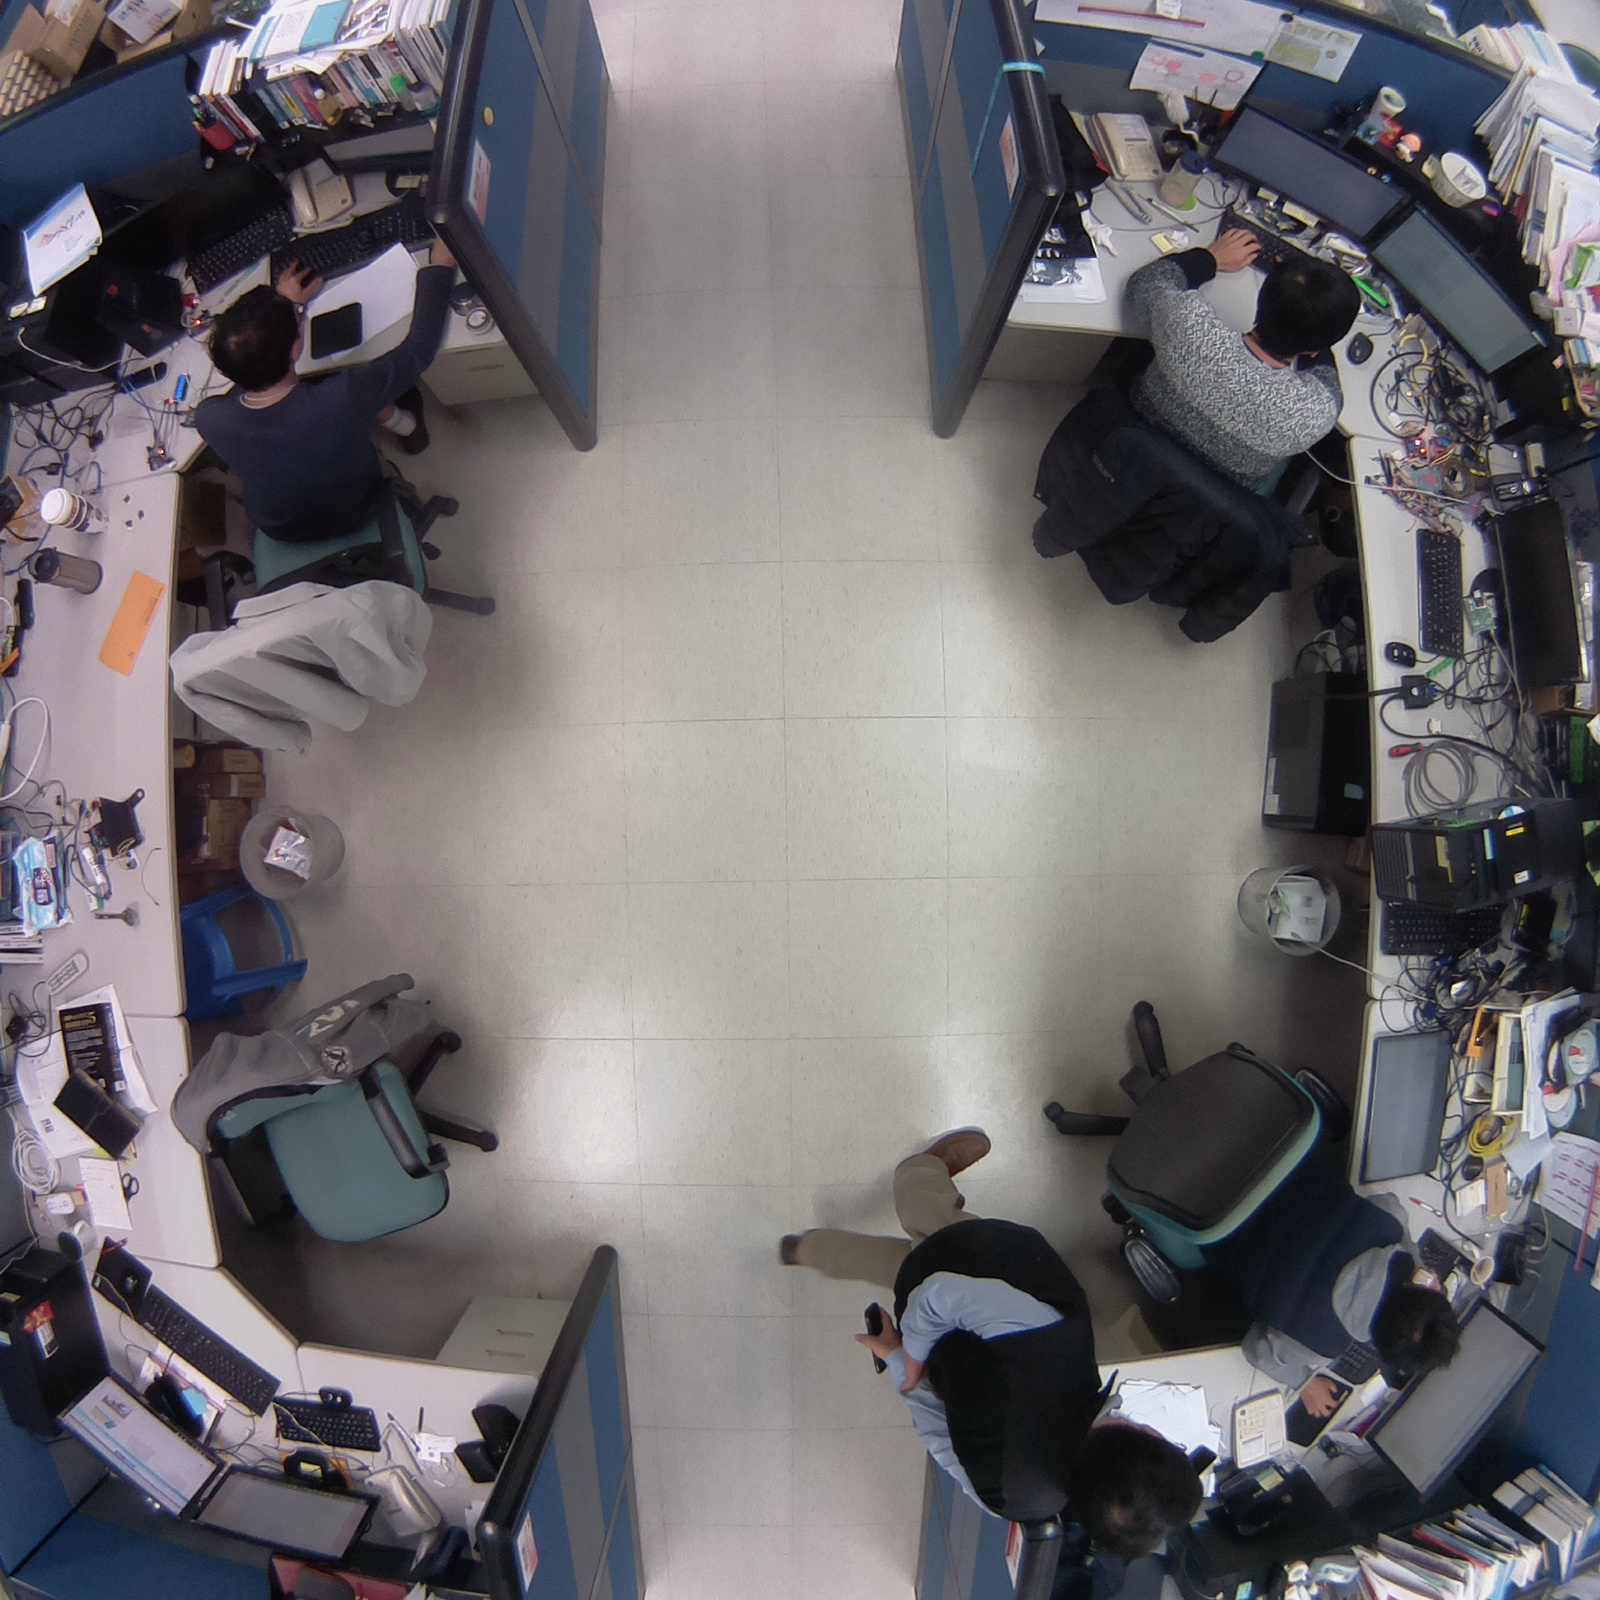chair: (160, 952, 512, 1268)
head: (1055, 1419, 1208, 1568), (1251, 246, 1368, 361), (200, 282, 310, 391), (1363, 1280, 1470, 1382)
sitting: (1032, 981, 1494, 1423), (155, 284, 509, 765), (1009, 237, 1370, 670)
standing: (758, 1111, 1205, 1577)
